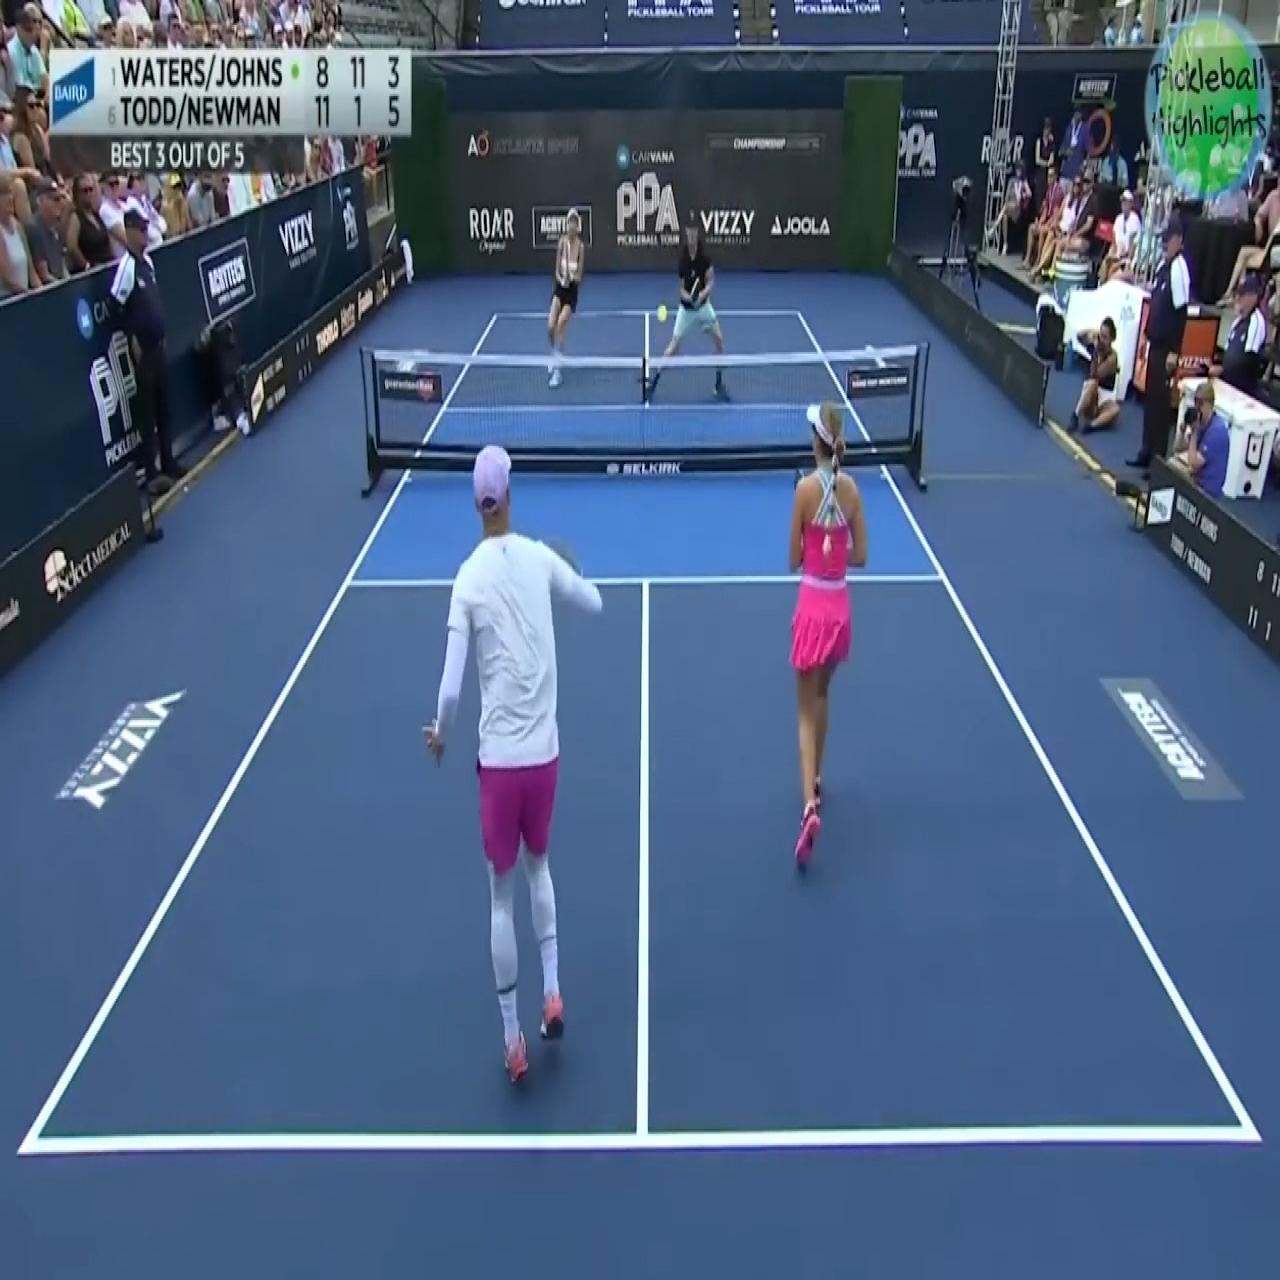Pickleball: (655, 300, 669, 326)
